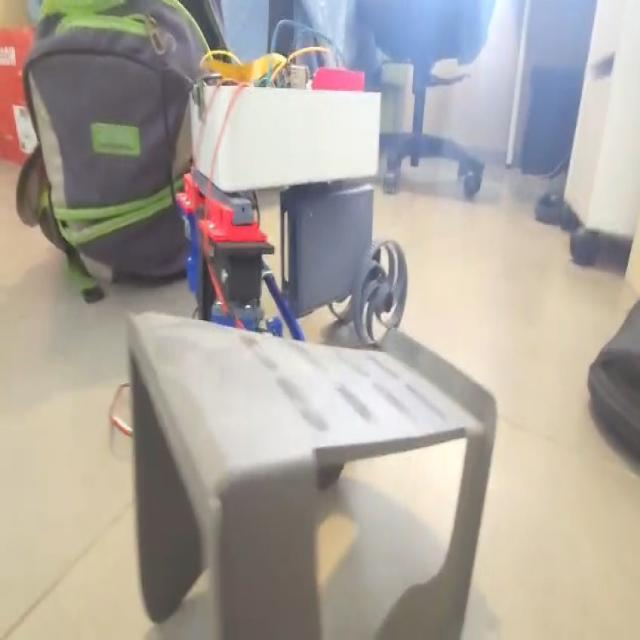Robot: (174, 47, 409, 349)
